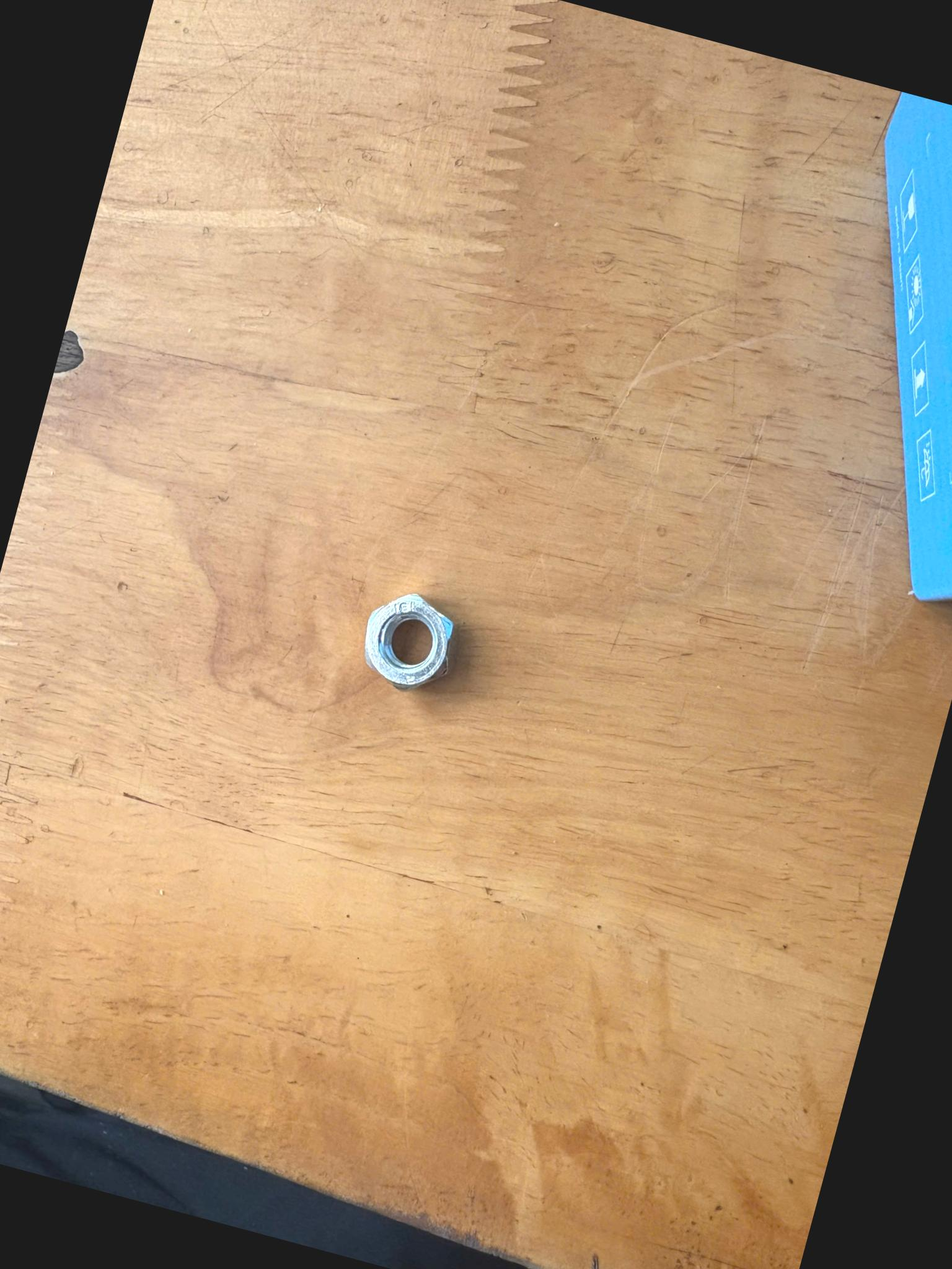nut: (326, 572, 479, 720)
